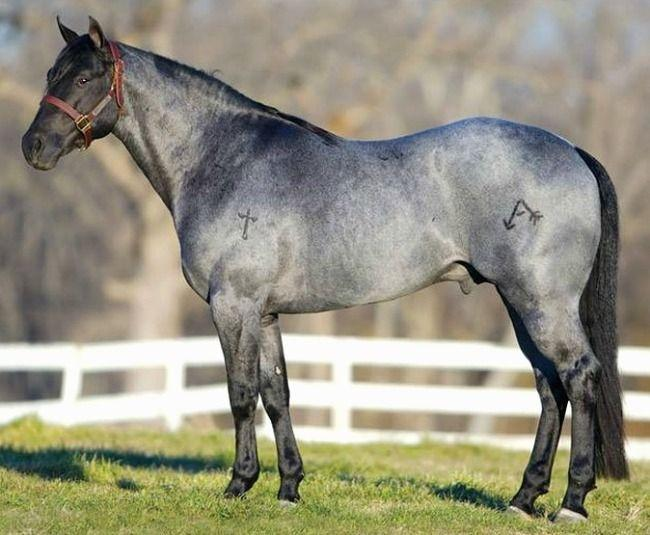horse: (20, 12, 631, 524)
